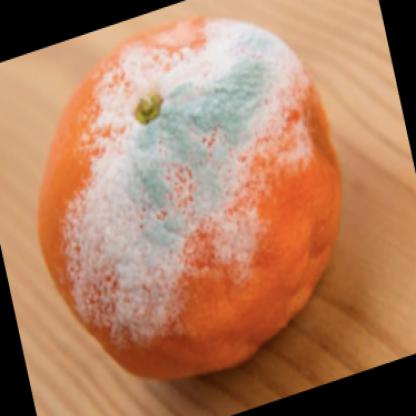rotten_orange: (29, 9, 341, 389)
